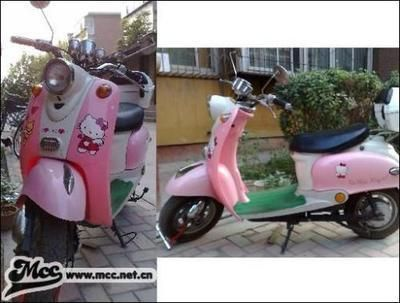non-vehicle: (157, 53, 397, 251), (8, 21, 148, 300)
